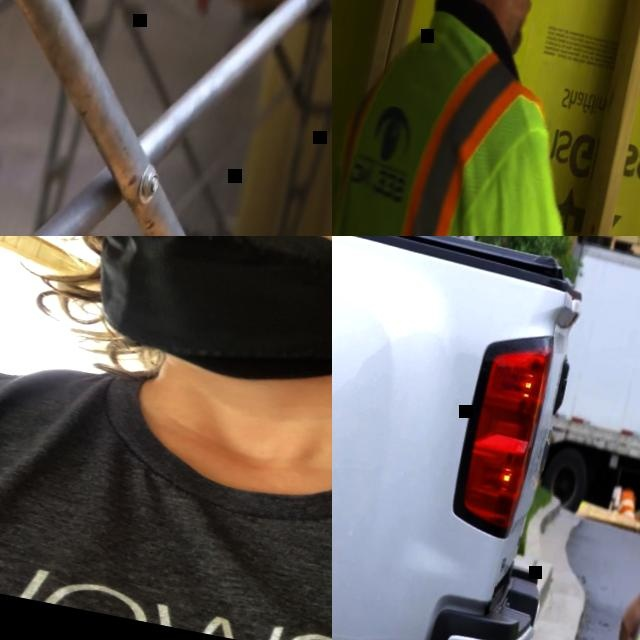Mask: (67, 236, 332, 414)
NO-Mask: (478, 0, 539, 50)
NO-Safety Vest: (0, 339, 332, 640)
Person: (0, 236, 332, 640), (332, 0, 640, 236)
Safety Cone: (618, 488, 640, 518)
Safety Vest: (332, 7, 626, 236)
vehicle: (332, 236, 640, 640)
